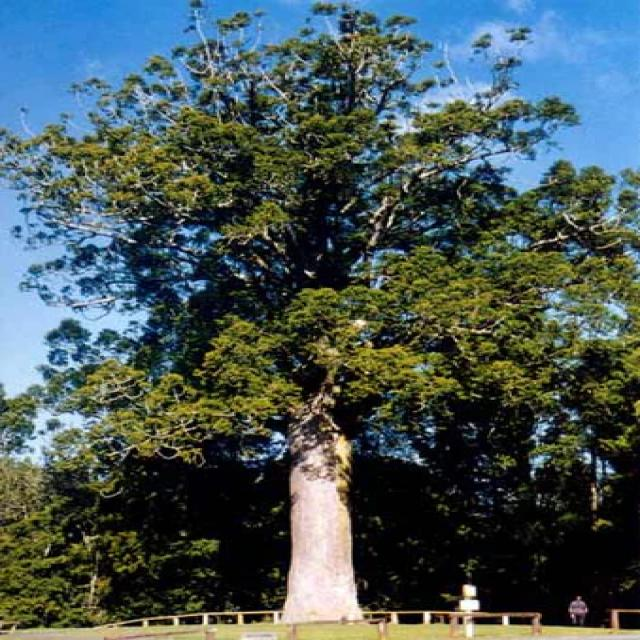Kauri: (0, 13, 640, 621)
